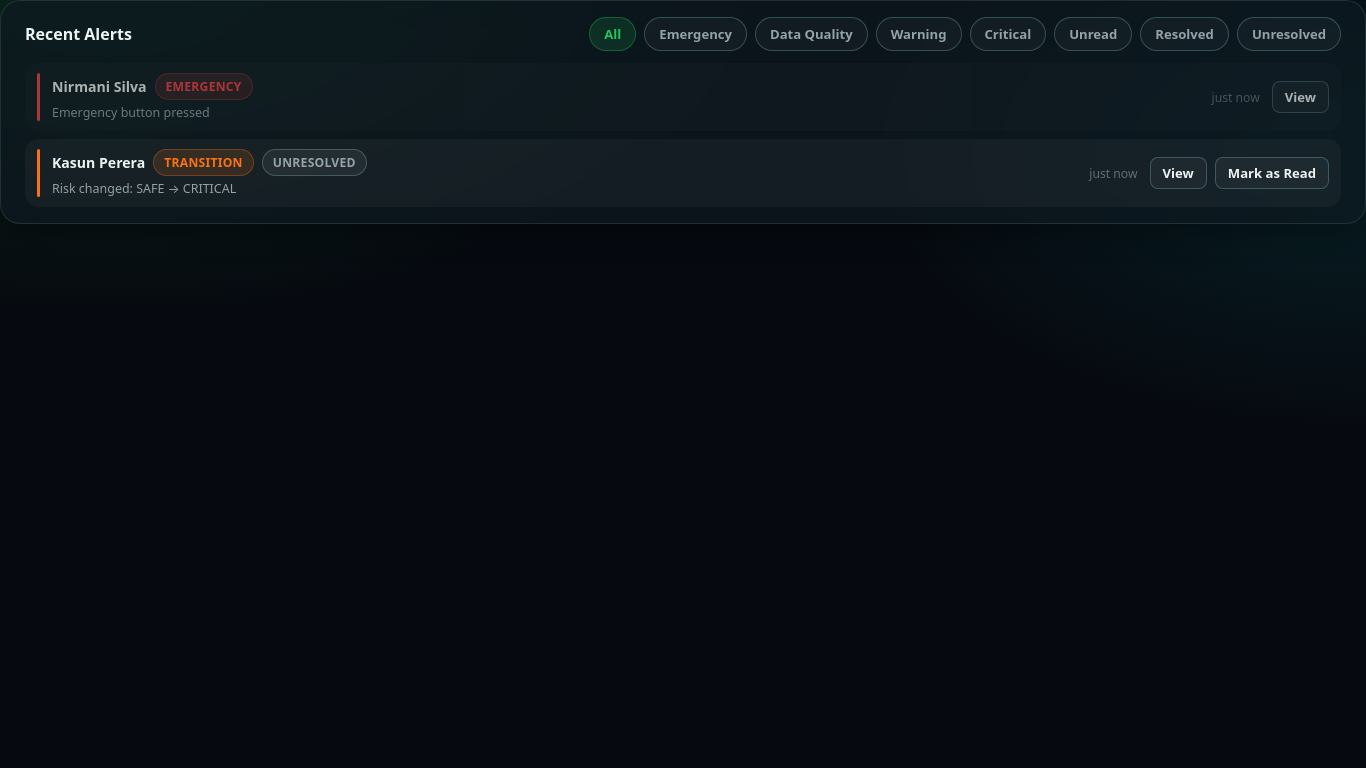
Test: RecentAlertsCard › clicking View opens the read-only detail modal with the full stored fields
Expected: the text "Nirmani Silva" is shown, [52,77,146,96]
Click the button "View" in the row of "Kasun Perera".
click(1178, 173)  # box [1150,157,1207,189]
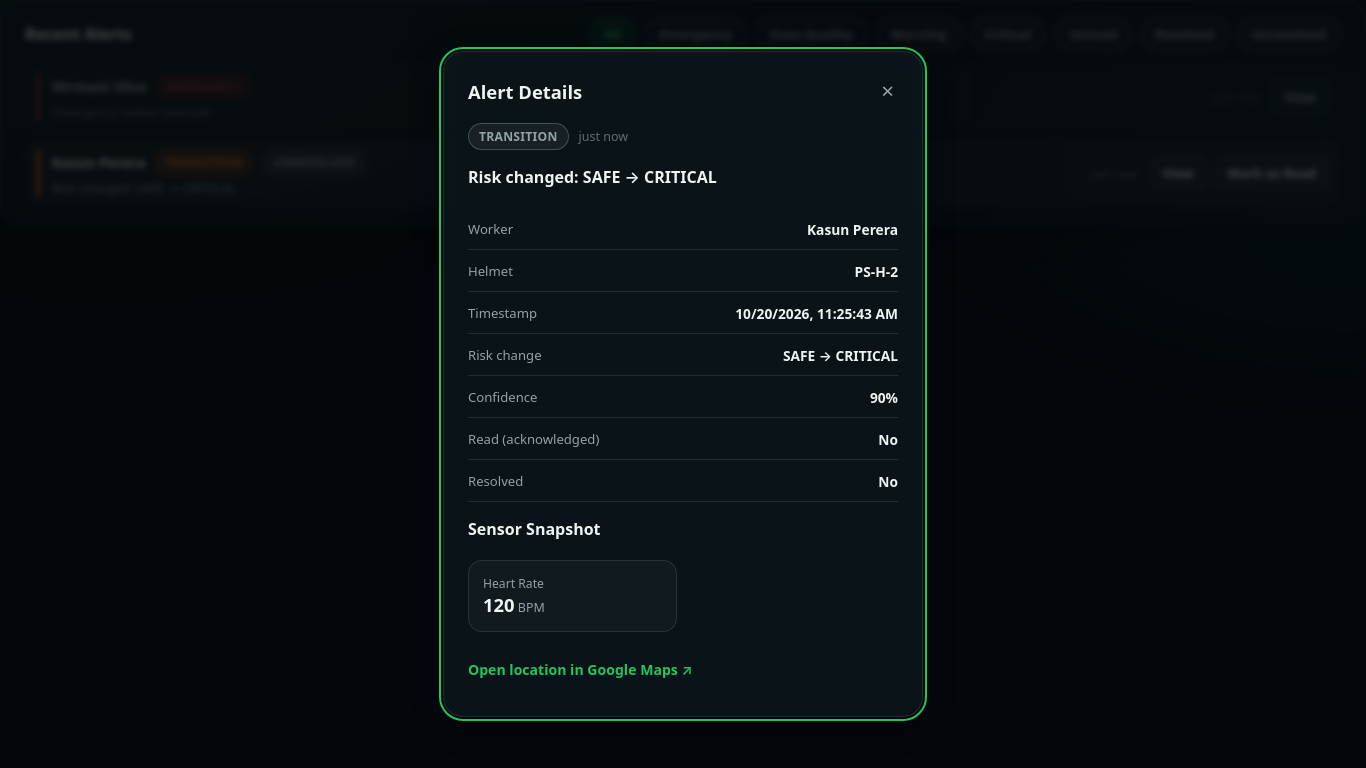
Now the heading "Alert Details" is shown, box [468,79,582,104]
Now the text "SAFE → CRITICAL" is shown, box [783,346,898,365]
Now the text "90%" is shown, box [870,388,898,407]
